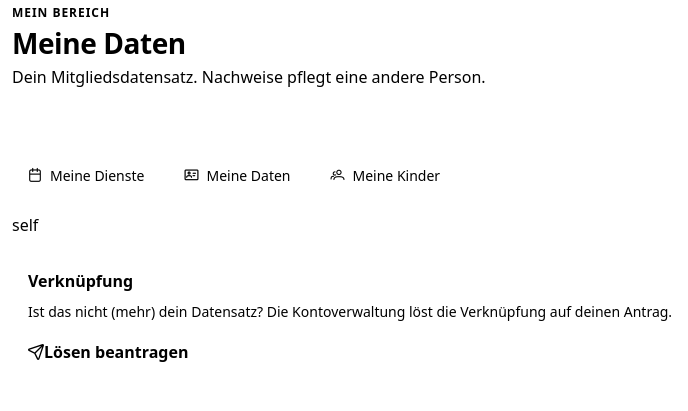
it: OwnAreaView (PORTAL-04.3) › asks account management to release the link from the data section
Check: the text with class "data-stub" reads "self", box [12, 214, 38, 236]
Click the button "Lösen beantragen".
click(108, 352)  # box [28, 330, 188, 374]
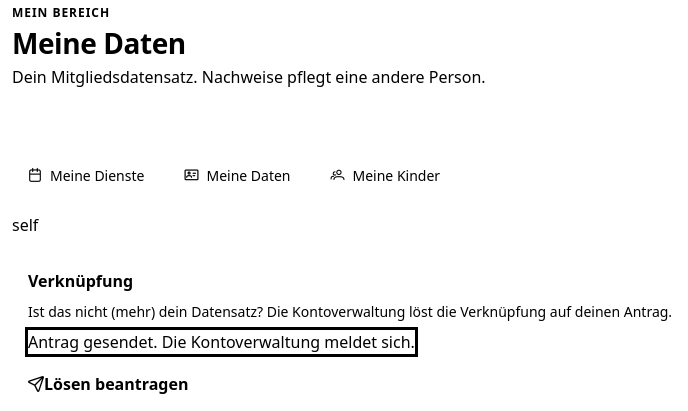
Check: the text "Antrag gesendet" is shown, box [28, 331, 415, 353]
